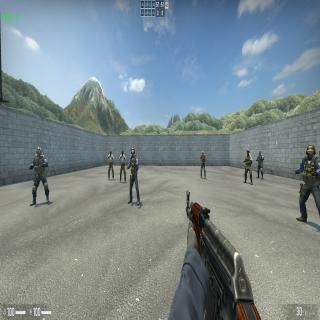CT-Body: (295, 144, 320, 225), (29, 146, 50, 206), (128, 147, 140, 206), (244, 149, 252, 185), (256, 151, 264, 180)
CT-Head: (306, 144, 316, 161), (36, 146, 42, 160), (131, 147, 135, 158), (247, 149, 250, 157), (259, 150, 261, 156)
T-Body: (200, 151, 207, 179), (120, 151, 126, 183), (108, 151, 114, 180)
T-Head: (202, 151, 204, 157), (122, 151, 124, 156), (110, 151, 112, 156)
